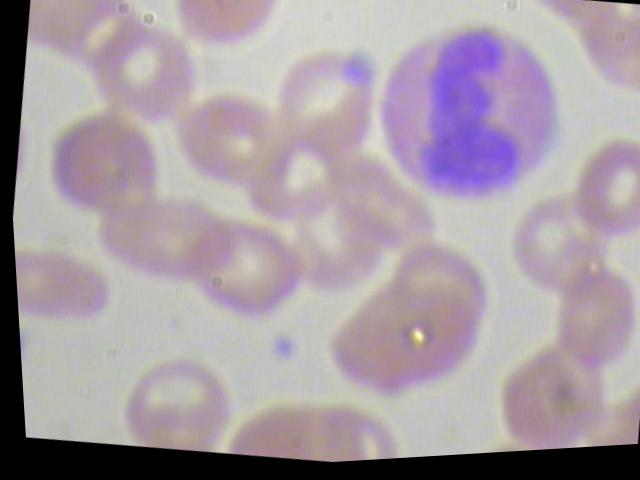Platelets: (259, 332, 302, 376)
Red Blood Cells: (479, 335, 619, 457), (180, 216, 319, 335), (80, 15, 219, 134), (100, 343, 240, 461), (261, 44, 393, 167), (11, 240, 131, 345), (541, 274, 639, 387), (552, 134, 639, 258), (162, 0, 293, 66)
White Blood Cells: (350, 13, 591, 232)
